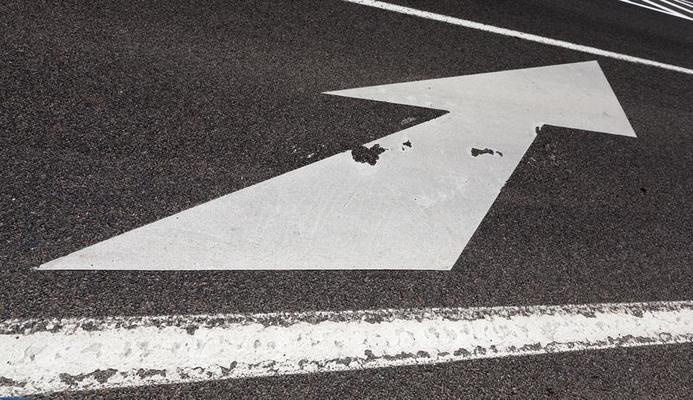faded_road_lines: (39, 61, 635, 269), (0, 295, 693, 400)
